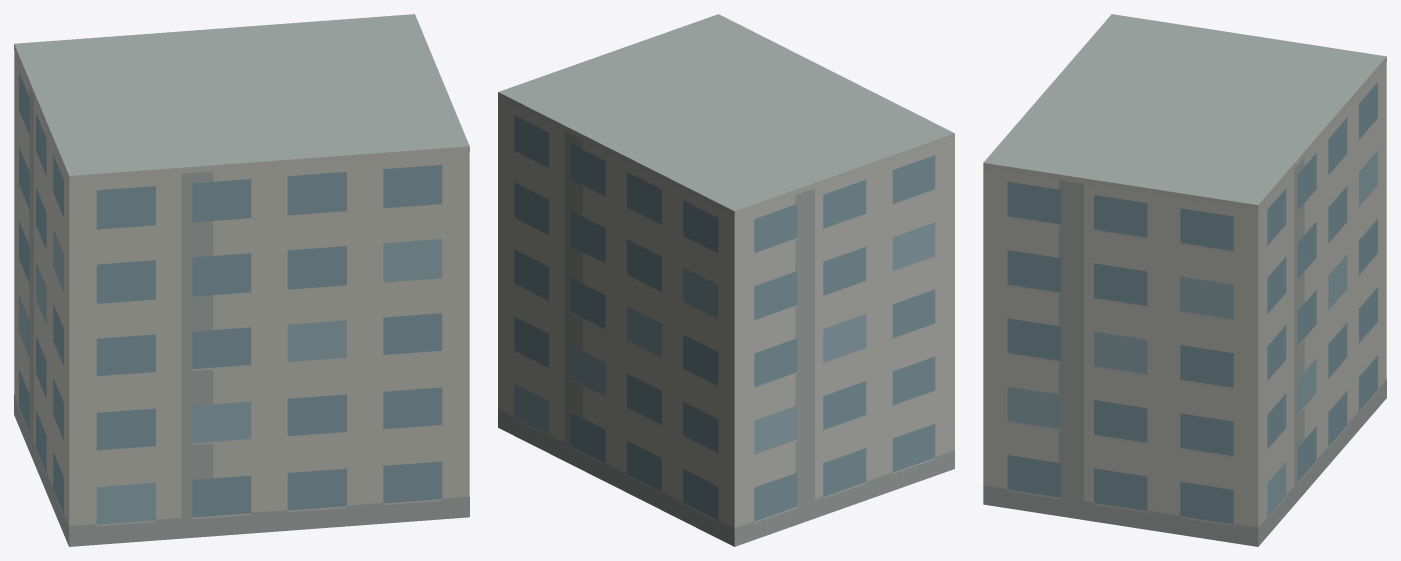
The model's file is residential-cacfc2af-7e21-43a7-977a-866061a4fe2f.glb.
The picture shows the model from 3 angles, left to right: view 1: azimuth 30°, elevation 25°; view 2: azimuth 150°, elevation 25°; view 3: azimuth 270°, elevation 25°; orthographic projection. The views are drawn at different scales.
Parts seen in each view (by area): view 1: residential-cacfc2af-7e21-43a7-977a-866061a4fe2f.tmp; view 2: residential-cacfc2af-7e21-43a7-977a-866061a4fe2f.tmp; view 3: residential-cacfc2af-7e21-43a7-977a-866061a4fe2f.tmp.
Part boxes in pixels (x1,y1,x2,y2): residential-cacfc2af-7e21-43a7-977a-866061a4fe2f.tmp: [14, 14, 469, 546]; residential-cacfc2af-7e21-43a7-977a-866061a4fe2f.tmp: [498, 14, 954, 546]; residential-cacfc2af-7e21-43a7-977a-866061a4fe2f.tmp: [983, 14, 1386, 546].
Size of the model in its own units: 18.31 by 15.25 by 16.33.
